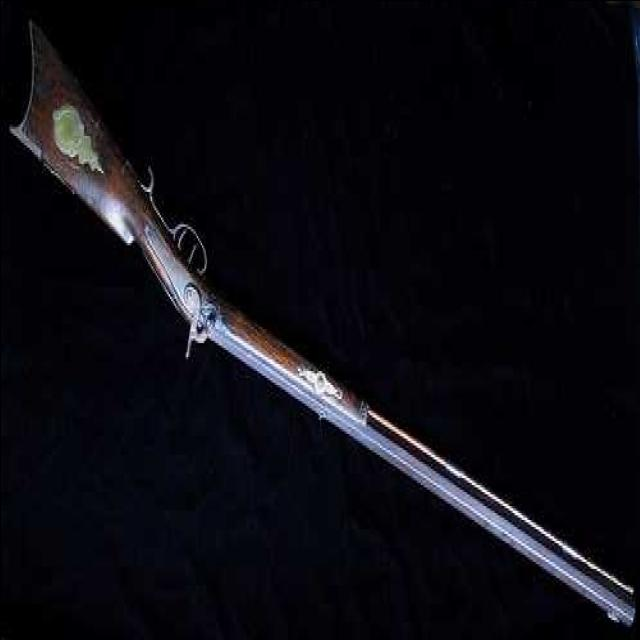heavyweapon: (1, 6, 636, 639)
